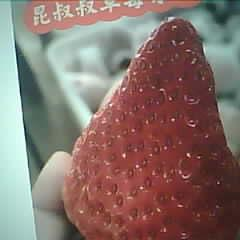straw-ripe: (65, 20, 240, 240)
